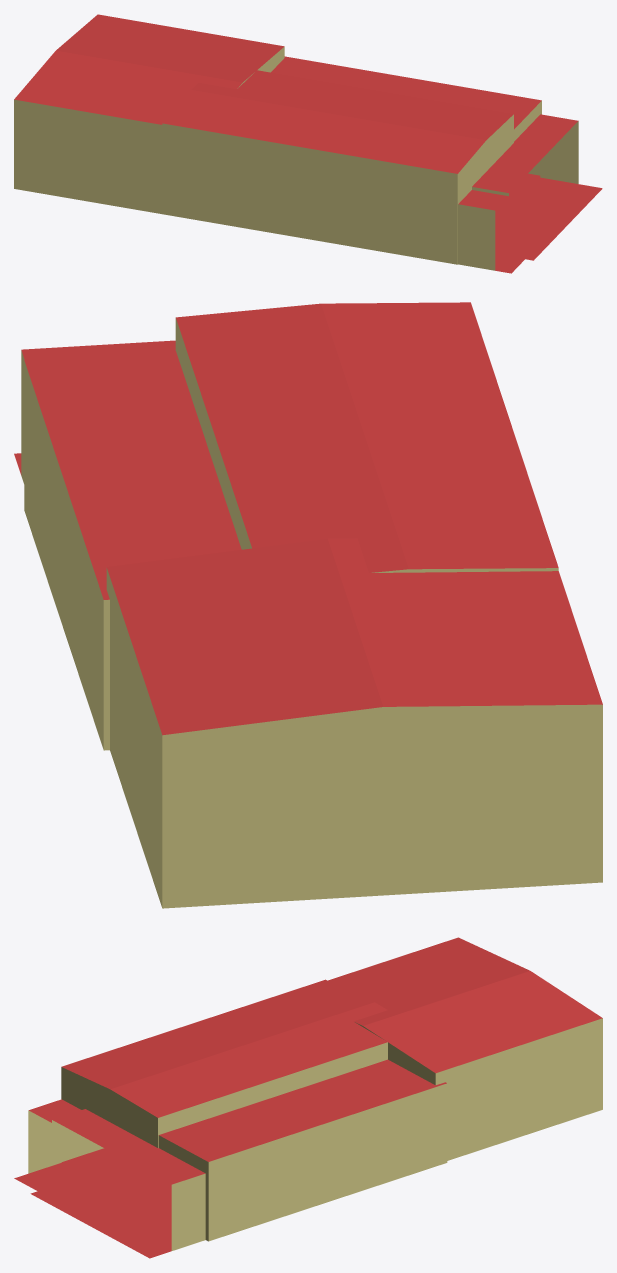
3 renders of one model, top to bottom at view 1: azimuth 30°, elevation 25°; view 2: azimuth 150°, elevation 25°; view 3: azimuth 270°, elevation 25°, orthographic. The views are drawn at different scales.
Bounding box in the file's own units: 68.42 × 74.99 × 13.99.
